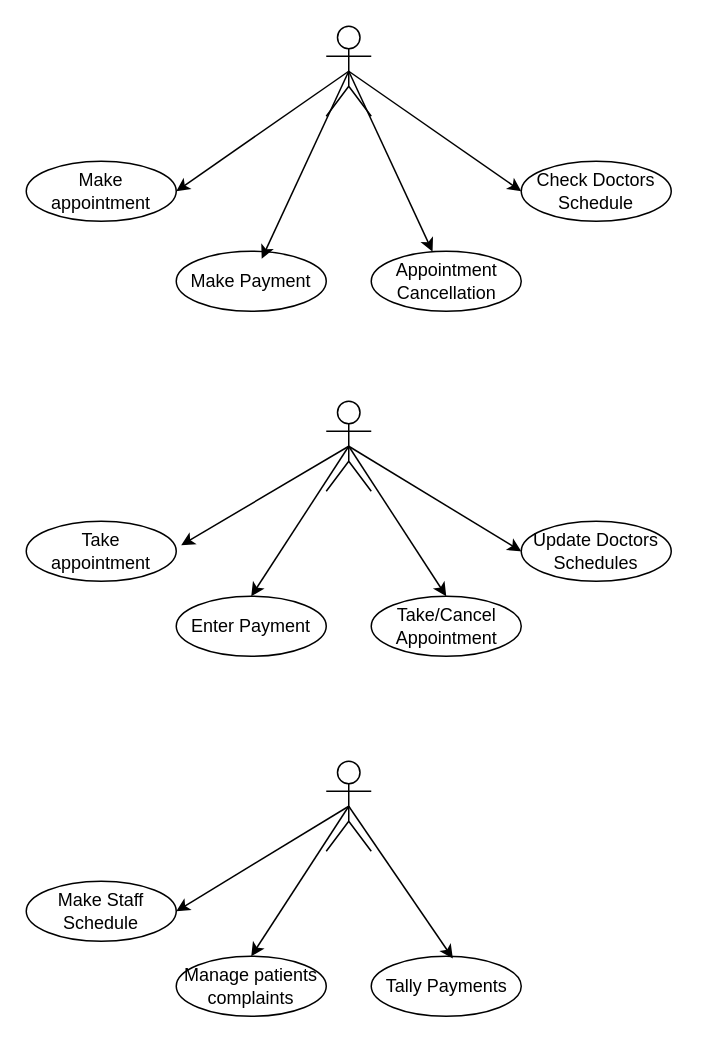
This 705x1043 diagram has some shape labels left out. The centre of each missing label's shape, as x and y in pixels:
"Floor Manager" belongs at (348,805).
"Patient" belongs at (348,70).
"Receptionist" belongs at (348,445).
